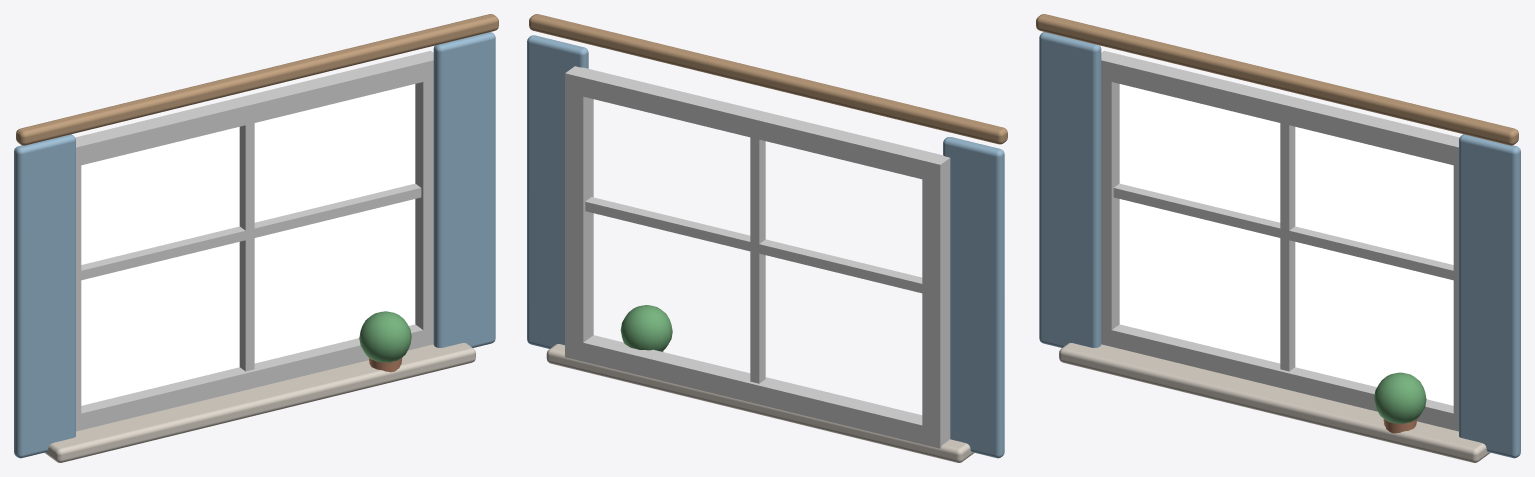
File: furn_window_ph.glb
The picture shows the model from 3 angles, left to right: view 1: azimuth 30°, elevation 25°; view 2: azimuth 150°, elevation 25°; view 3: azimuth 330°, elevation 25°; orthographic projection.
Visible parts, largest first — view 1: furn_window; view 2: furn_window; view 3: furn_window.
Boxes of the visible parts, left/top/right/bottom form: furn_window: left=14, top=14, right=498, bottom=462; furn_window: left=527, top=14, right=1007, bottom=462; furn_window: left=1036, top=14, right=1520, bottom=462.
Size of the model in its own units: 2.1 by 1.4 by 0.2375.
